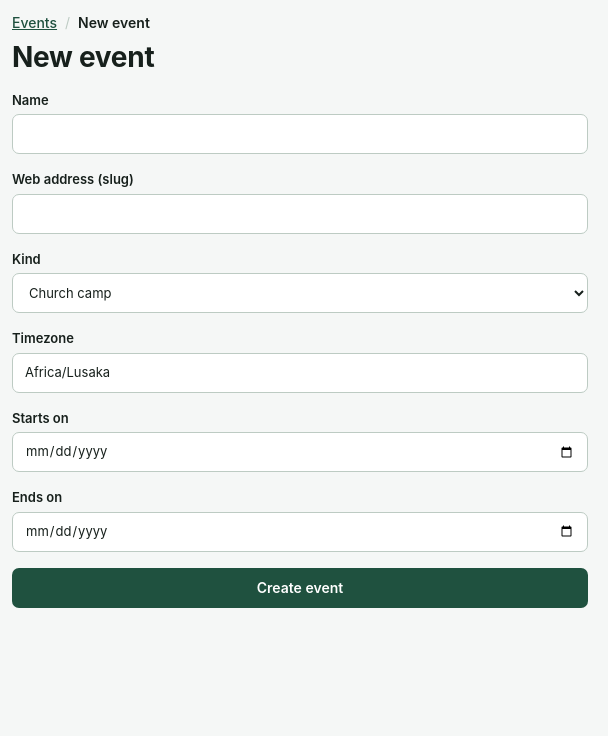
EventCreatePage › names the field the server rejected, using the label the form shows
This screenshot has width=608, height=736.
Type "Camp" into the field labelled "Name" at (300, 134), box top-left (12, 114), bottom-right (588, 154)
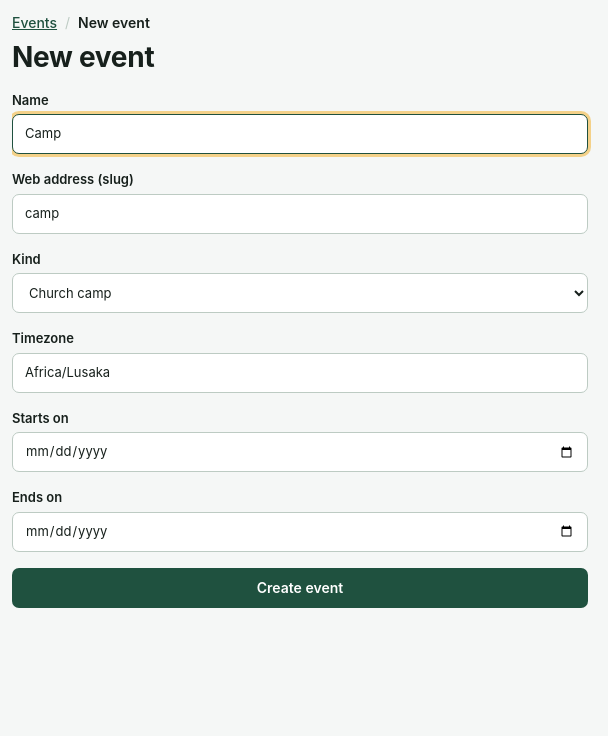
Type "2027-12-01" into the date field labelled "Starts on" at (300, 452), box top-left (12, 432), bottom-right (588, 472)
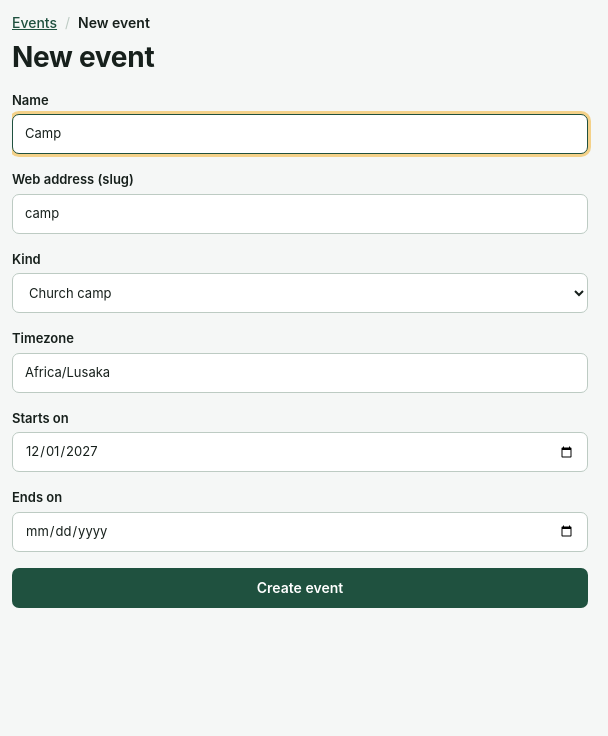
Type "2027-12-05" into the date field labelled "Ends on" at (300, 532), box top-left (12, 512), bottom-right (588, 552)
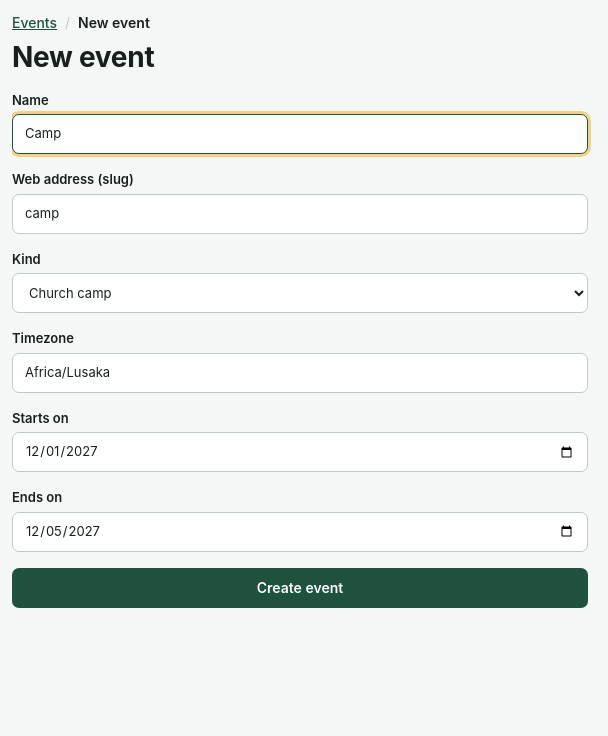
Click the button "Create event" at (300, 588), box top-left (12, 568), bottom-right (588, 608)
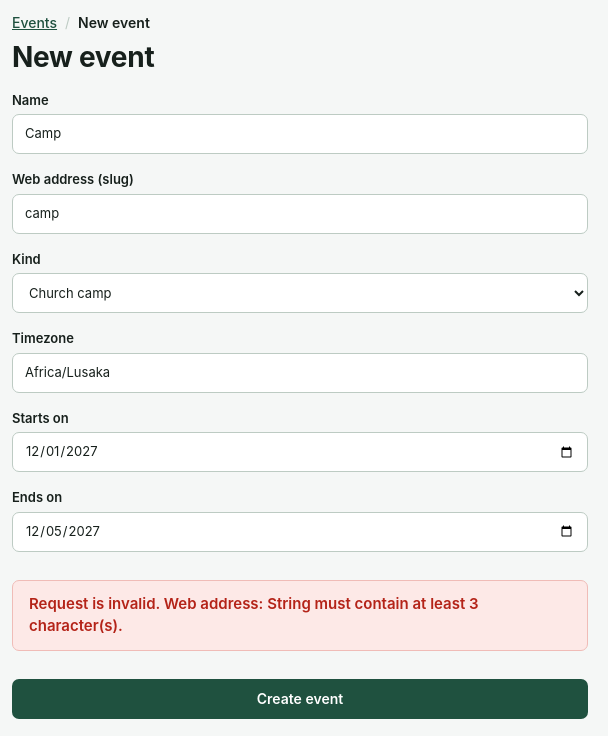
Now the message reads "Request is invalid. Web address: String must contain at least 3 character(s).", box top-left (29, 594), bottom-right (479, 635)
